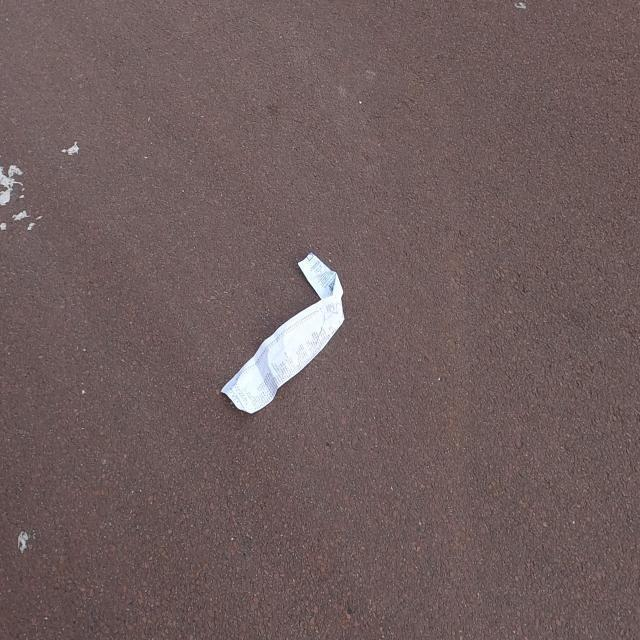Paper: (219, 251, 348, 415)
